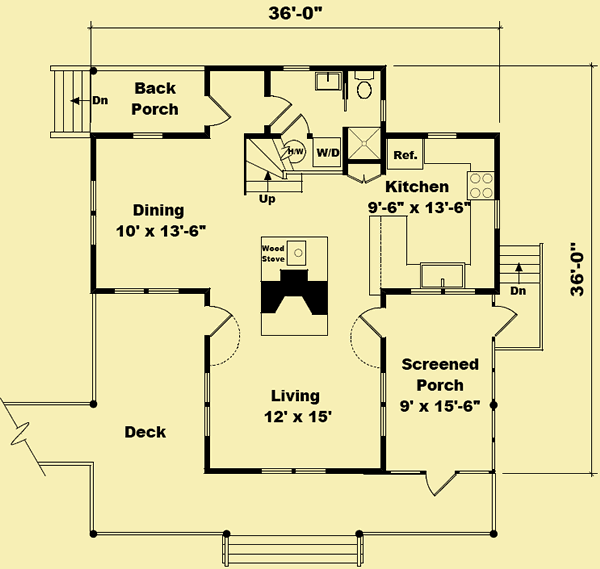door: (201, 94, 236, 129), (357, 306, 391, 341), (488, 306, 521, 338), (202, 304, 234, 336), (263, 94, 293, 128), (423, 470, 458, 496)
large_sink: (350, 69, 379, 100)
small_sink: (312, 73, 344, 95)
stairs: (244, 136, 306, 199), (50, 63, 94, 139)
window: (377, 371, 389, 438), (108, 286, 178, 297), (258, 464, 327, 474), (88, 179, 98, 248), (409, 286, 477, 295), (204, 368, 211, 436), (426, 131, 455, 140)
